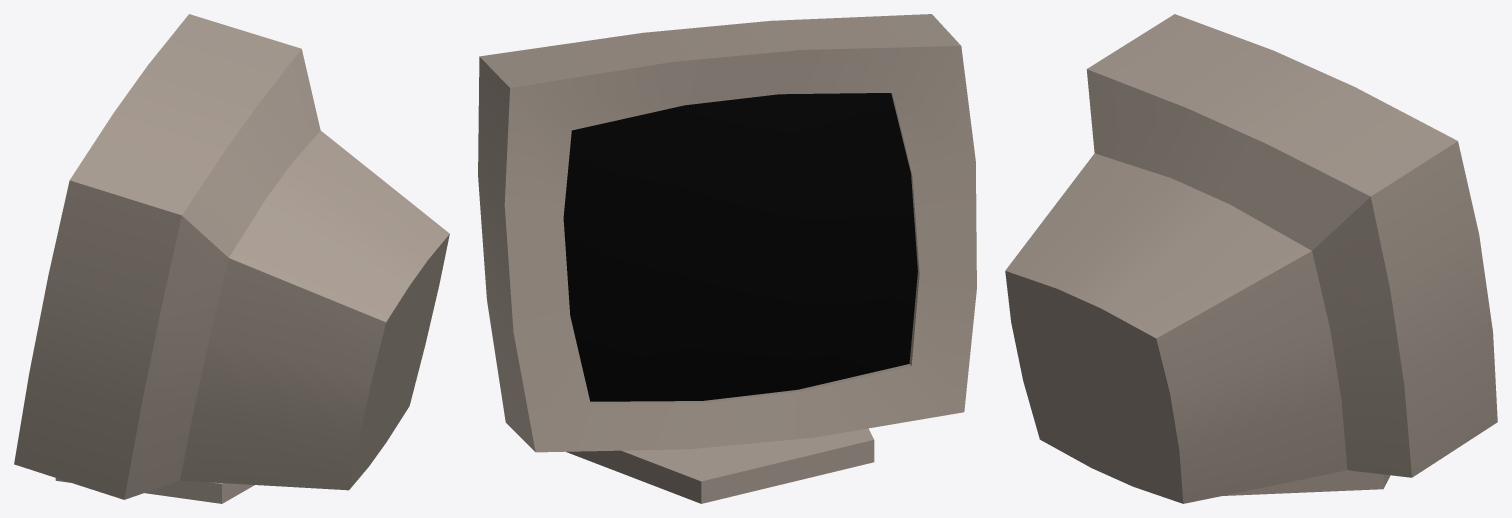
File: Comp.fbx
The picture shows the model from 3 angles, left to right: view 1: azimuth 30°, elevation 25°; view 2: azimuth 150°, elevation 25°; view 3: azimuth 270°, elevation 25°; orthographic projection. The views are drawn at different scales.
Visible parts, largest first — view 1: pCube2, pCylinder1; view 2: pCube2, pCylinder1; view 3: pCube2, pCylinder1.
Part boxes in pixels (bbox=[...]): pCube2: bbox=[14, 14, 449, 499]; pCylinder1: bbox=[55, 478, 254, 503]; pCube2: bbox=[478, 14, 976, 452]; pCylinder1: bbox=[566, 428, 874, 503]; pCube2: bbox=[1005, 14, 1497, 503]; pCylinder1: bbox=[1223, 470, 1390, 495].
Size of the model in its own units: 1.28 by 1.07 by 1.34.
